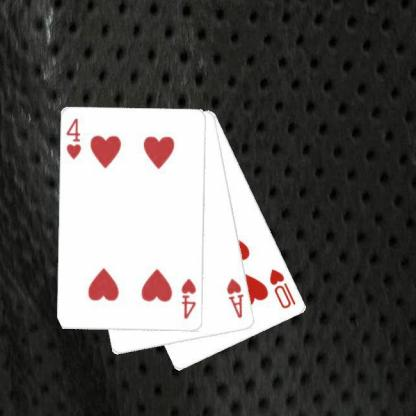10H: (267, 266, 297, 310)
4H: (178, 276, 198, 320), (63, 115, 82, 160)
AH: (224, 276, 245, 320)
